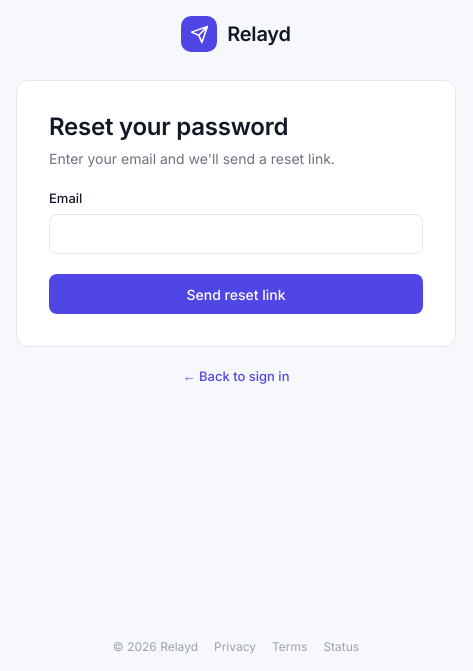
it: B4a Forgot password › shows the same sent card whether or not the account exists
The image size is (473, 671).
Check: the heading "Reset your password" is shown, box 49,112 -> 288,141
In the field labelled "Email": (236, 234) 49,214 -> 423,254, type "nobody@example.com"
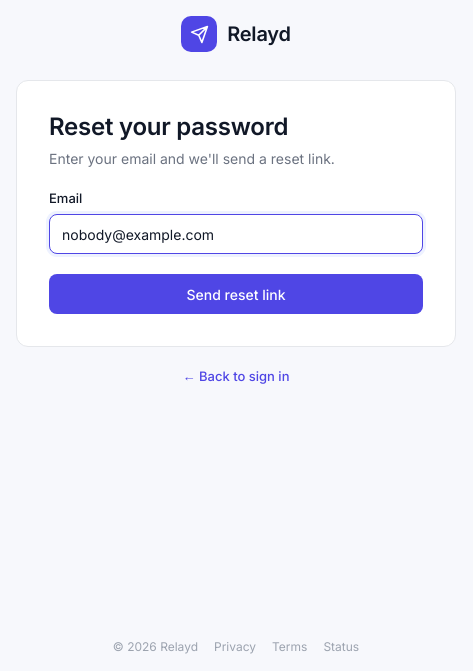
Click the button "Send reset link": click(236, 294) 49,274 -> 423,314
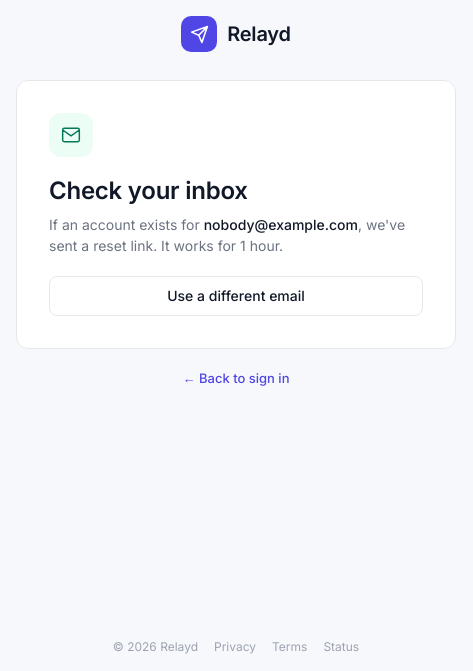
Check: the heading "Check your inbox" is shown, box 49,176 -> 248,205
Check: the text "If an account exists for" is shown, box 49,216 -> 204,233
Check: the text "nobody@example.com" is shown, box 204,216 -> 358,233
